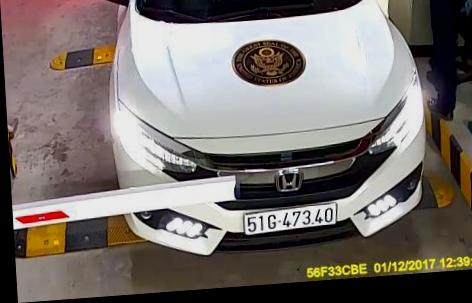License_Plate: (241, 202, 341, 235)
